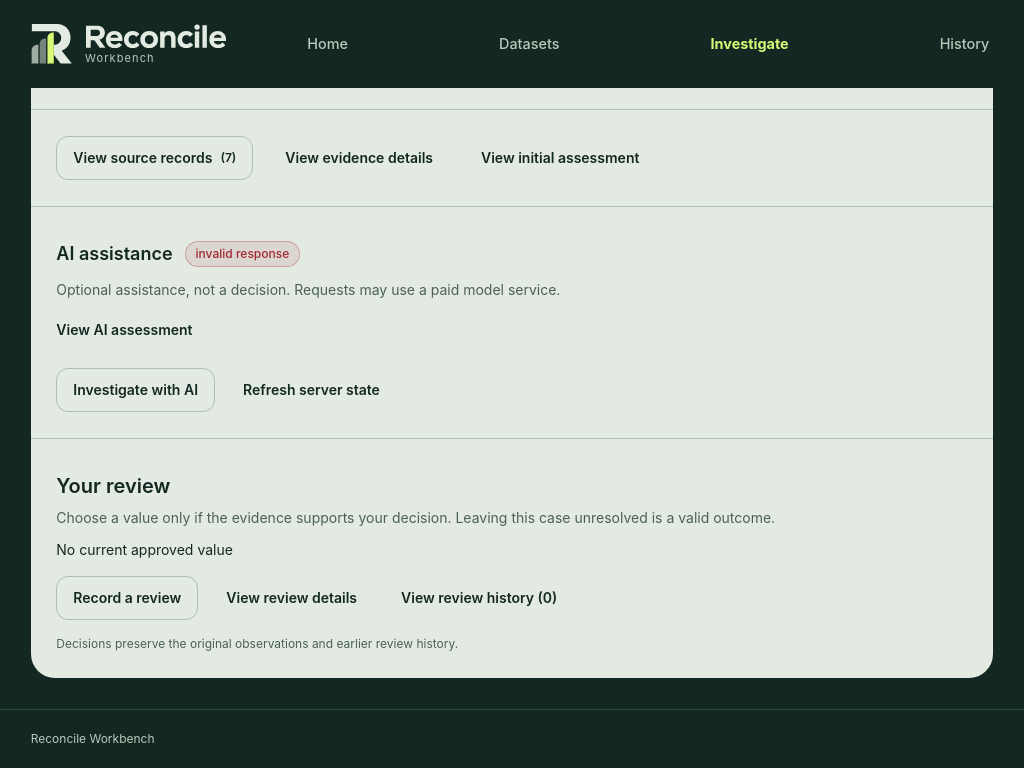
Scenario: keeps AI invalid_response distinct and prevents accepting it
This screenshot has width=1024, height=768.
(page scrolled)
Check: the heading "Your review" is shown, box [56,474,170,498]
Click the button "Record a review": (127, 598) [56,576,198,620]
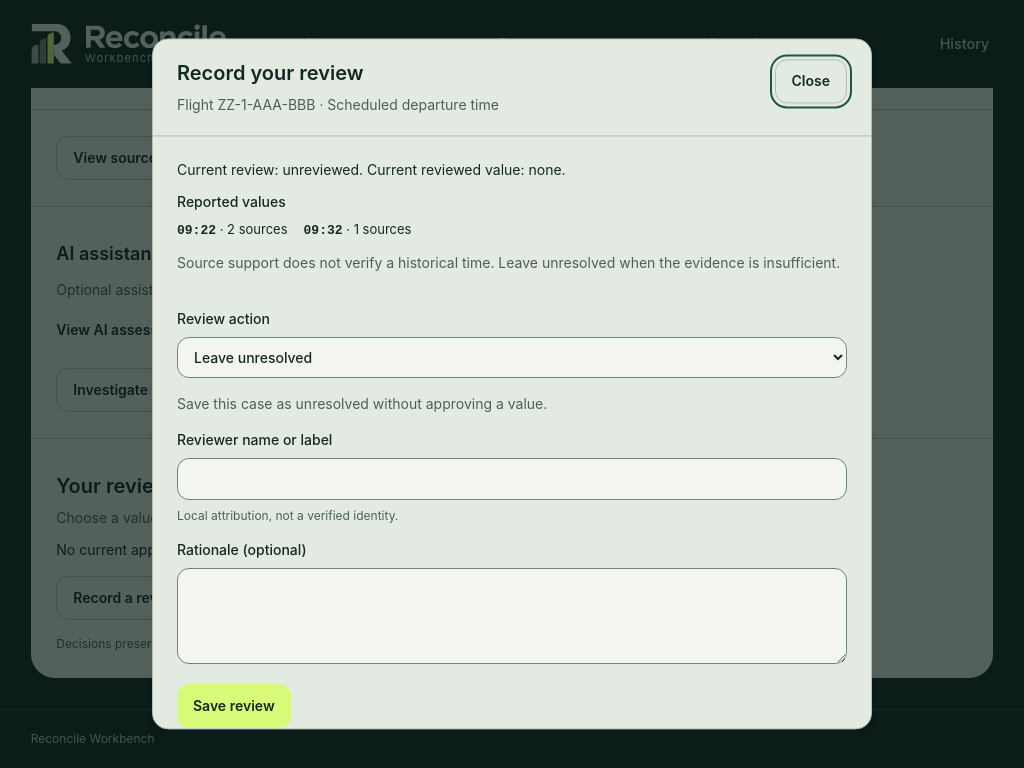
Check: the button "Save review" is enabled, box [177,684,291,728]
